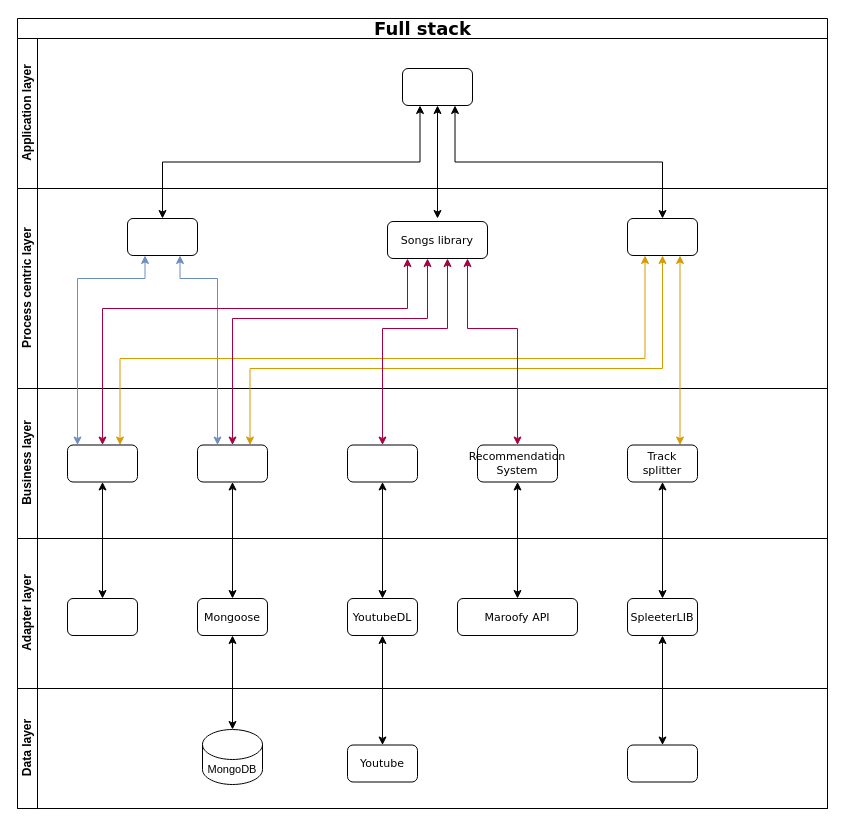
The diagram is 845 pixels wide and 826 high, and some of its shapes have lost their labels. The shapes that lost their labels are listed below. From the top down, each one's centre as x and y in pixels, then its label:
At point 437,87: "WebApp".
At point 162,237: "Registration".
At point 662,237: "Song Analyzer".
At point 102,463: "Auth".
At point 232,463: "DB Controller".
At point 382,463: "Music Scraper".
At point 102,617: "Google".
At point 662,763: "Spleeter".
